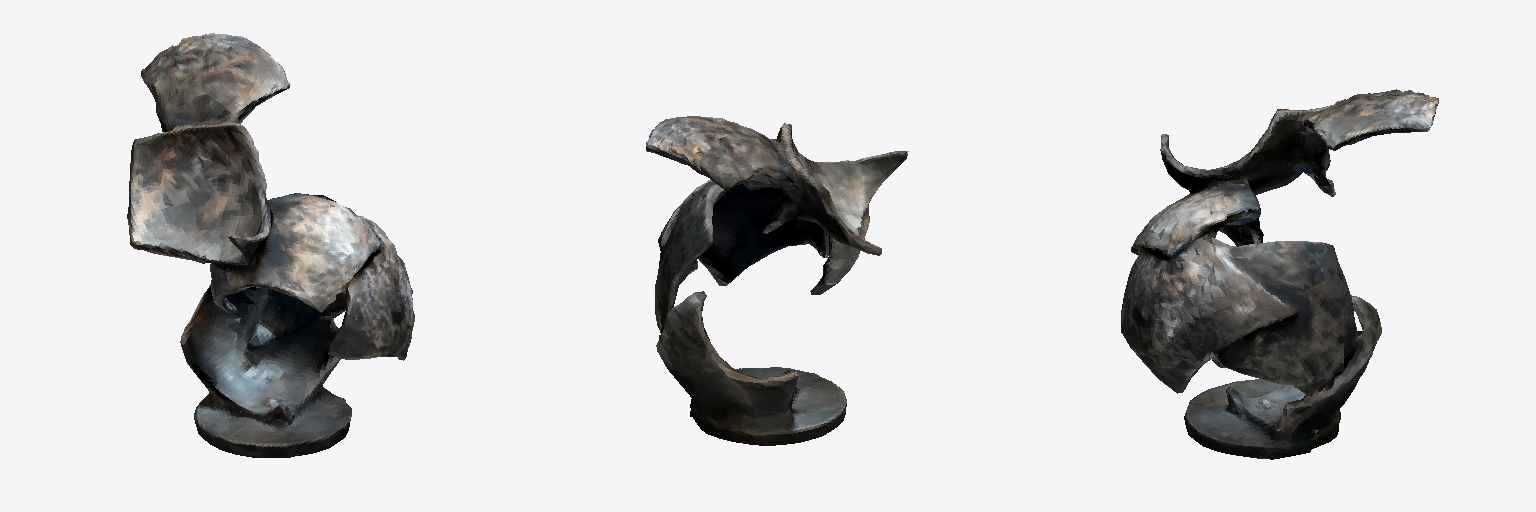
3 views of the same model, side by side, from view 1: azimuth 30°, elevation 25°; view 2: azimuth 150°, elevation 25°; view 3: azimuth 270°, elevation 25° (orthographic).
Parts seen in each view (by area): view 1: model; view 2: model; view 3: model.
Boxes of the visible parts, <box> form: model: <box>127,33,414,457</box>; model: <box>646,116,908,445</box>; model: <box>1121,89,1438,459</box>.
Size of the model in its own units: 0.4232 by 0.5615 by 0.4887.
Materials: 1 (1 with a texture image).